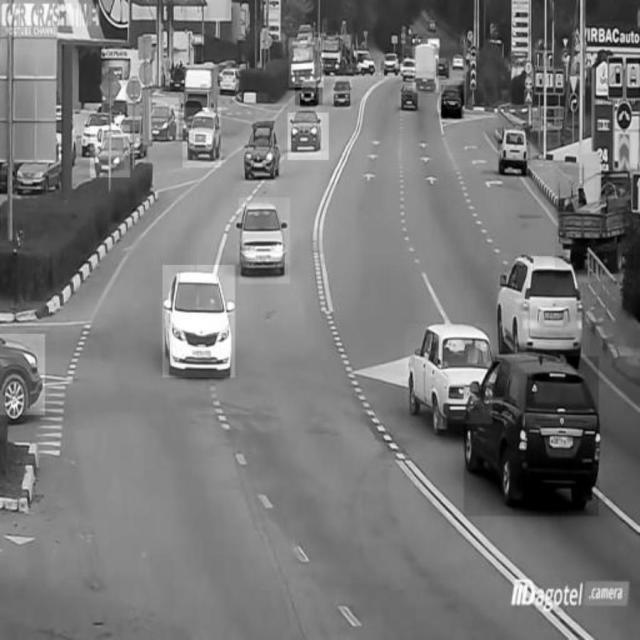vehicle: (464, 356, 598, 516), (497, 255, 590, 358), (405, 324, 493, 424), (163, 265, 235, 378), (556, 168, 634, 270), (239, 198, 290, 284), (1, 334, 46, 415), (183, 107, 221, 167), (90, 126, 130, 178), (245, 119, 279, 177), (288, 113, 329, 160), (289, 38, 324, 88), (498, 128, 530, 175), (413, 39, 439, 93), (149, 99, 179, 141), (294, 73, 322, 105), (442, 85, 464, 119), (332, 73, 352, 109), (400, 74, 418, 112), (380, 48, 398, 78)
